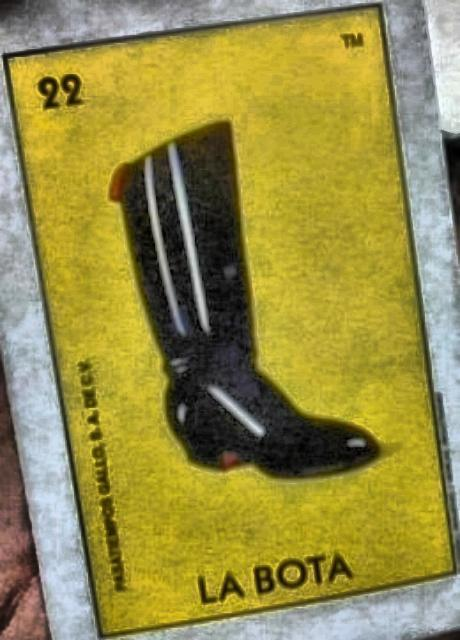La Bota: (5, 11, 455, 635)
